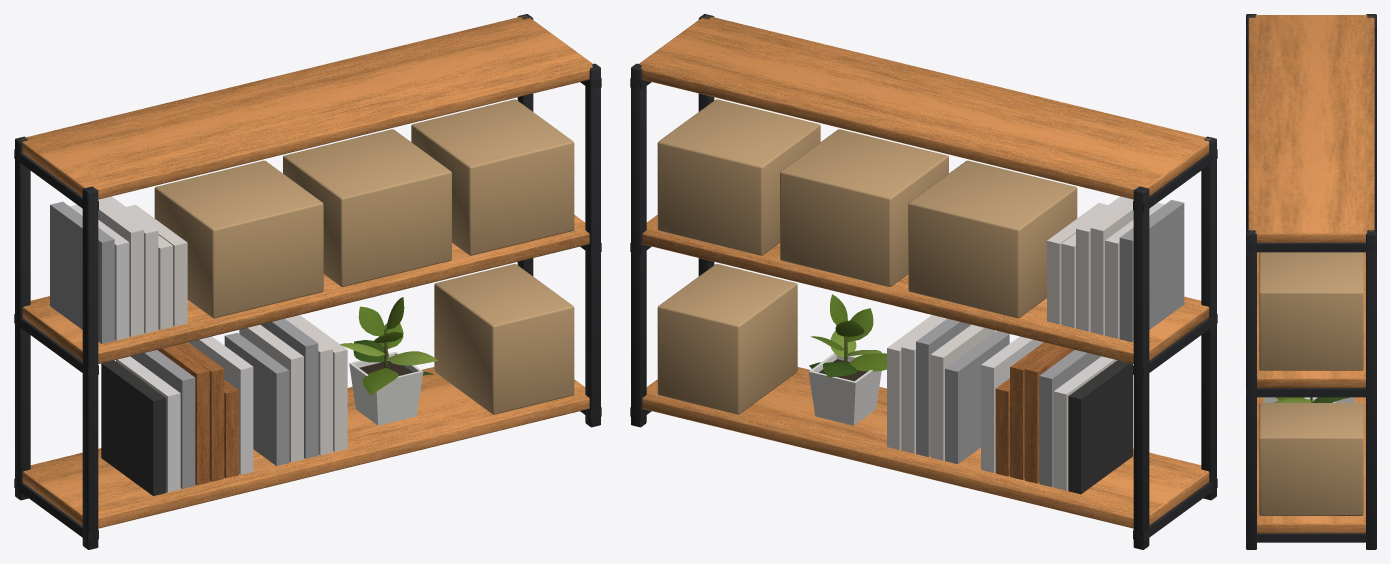
The model's file is storage.shelf-divider-short.glb.
The picture shows the model from 3 angles, left to right: view 1: azimuth 30°, elevation 25°; view 2: azimuth 150°, elevation 25°; view 3: azimuth 270°, elevation 25°; orthographic projection. The views are drawn at different scales.
Visible parts, largest first — view 1: storage.shelf-divider-short.001; view 2: storage.shelf-divider-short.001; view 3: storage.shelf-divider-short.001.
Part boxes in pixels (bbox=[...]): storage.shelf-divider-short.001: bbox=[14, 14, 601, 549]; storage.shelf-divider-short.001: bbox=[630, 14, 1217, 549]; storage.shelf-divider-short.001: bbox=[1246, 14, 1376, 549].
Size of the model in its own units: 1.2 by 0.8 by 0.3.
Materials: 14 (2 with a texture image).
